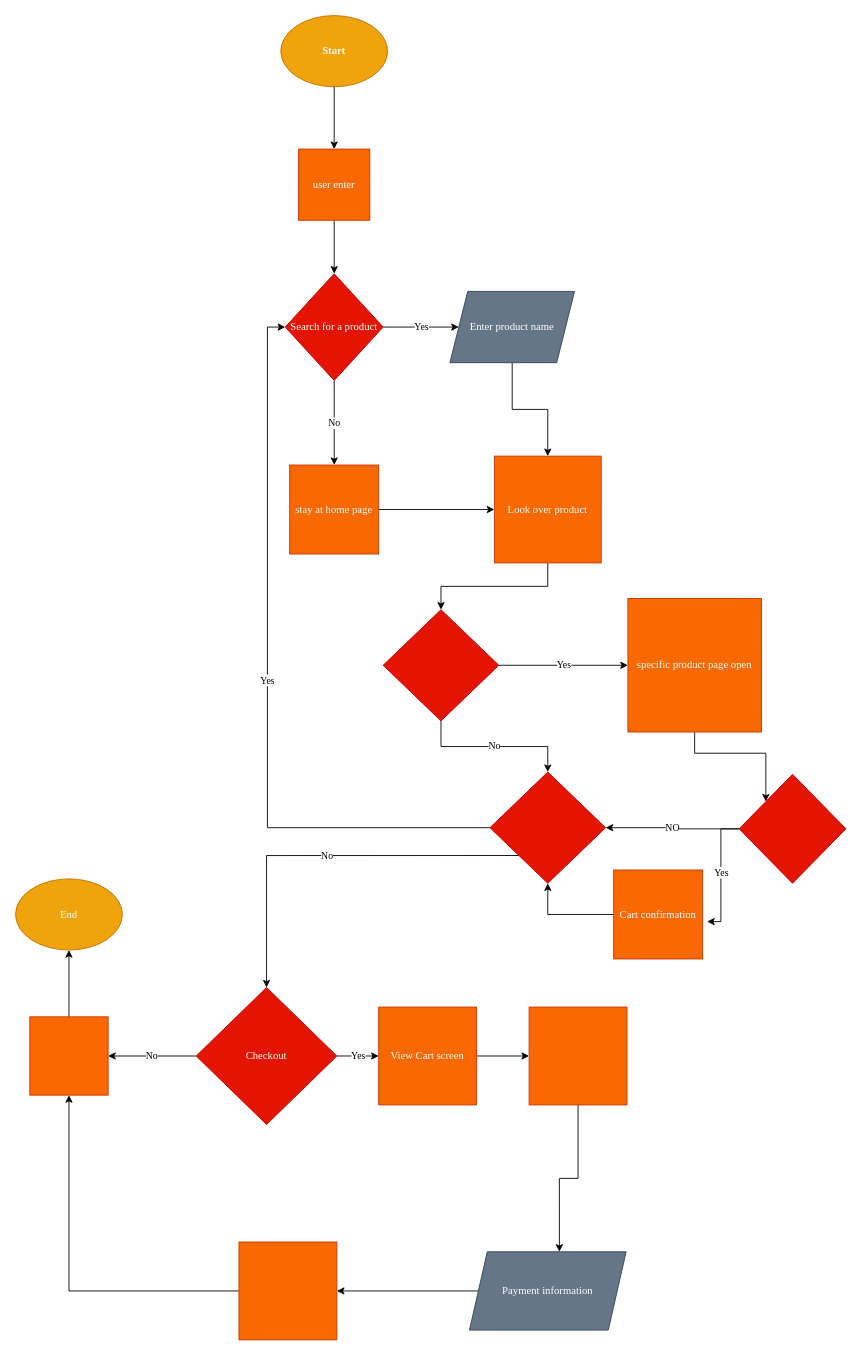
The diagram is 862 pixels wide and 1355 high, and some of its shapes have lost their labels. Here are the shapes that lost their labels. From the top down, the centre of each, then its label:
the point at 440,665: View a specific product
the point at 547,827: Continue shopping
the point at 792,828: Add item to cart
the point at 68,1055: leave page
the point at 577,1055: View Payment Screen
the point at 287,1290: Order confirmation screen, sent confirmation email
